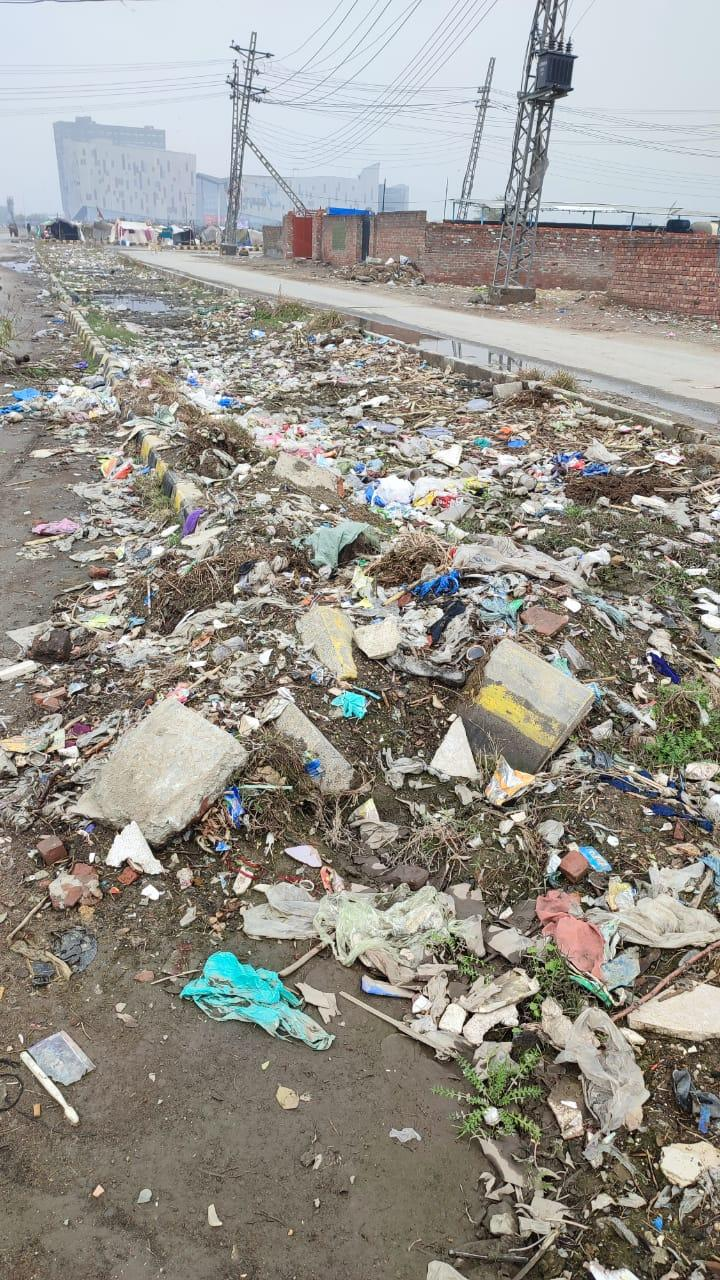garbage: (131, 334, 720, 1009), (493, 1026, 720, 1267)
